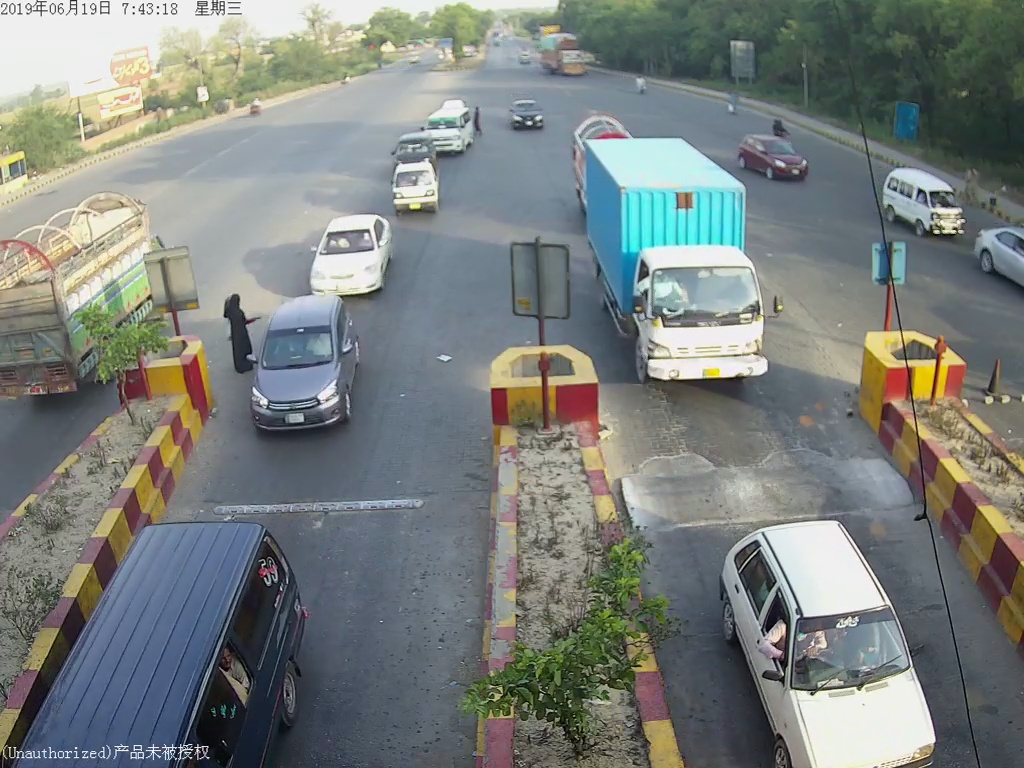Cat-1: (723, 527, 948, 768), (256, 300, 363, 432), (311, 212, 394, 290), (509, 100, 541, 127)
Cat-2: (584, 142, 800, 400), (384, 142, 446, 212)
